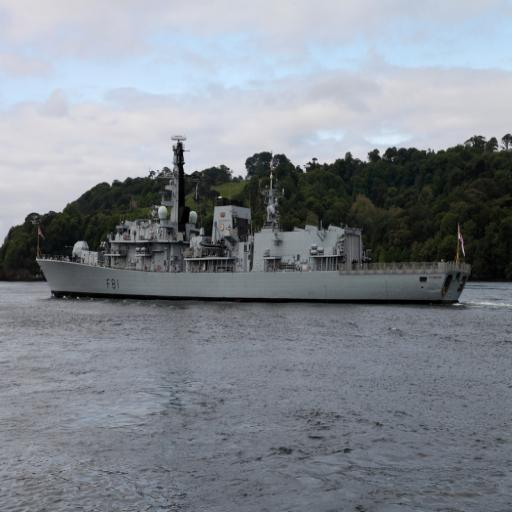Fragata: (33, 128, 471, 310)
